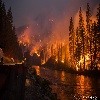fire: (18, 18, 91, 70)
